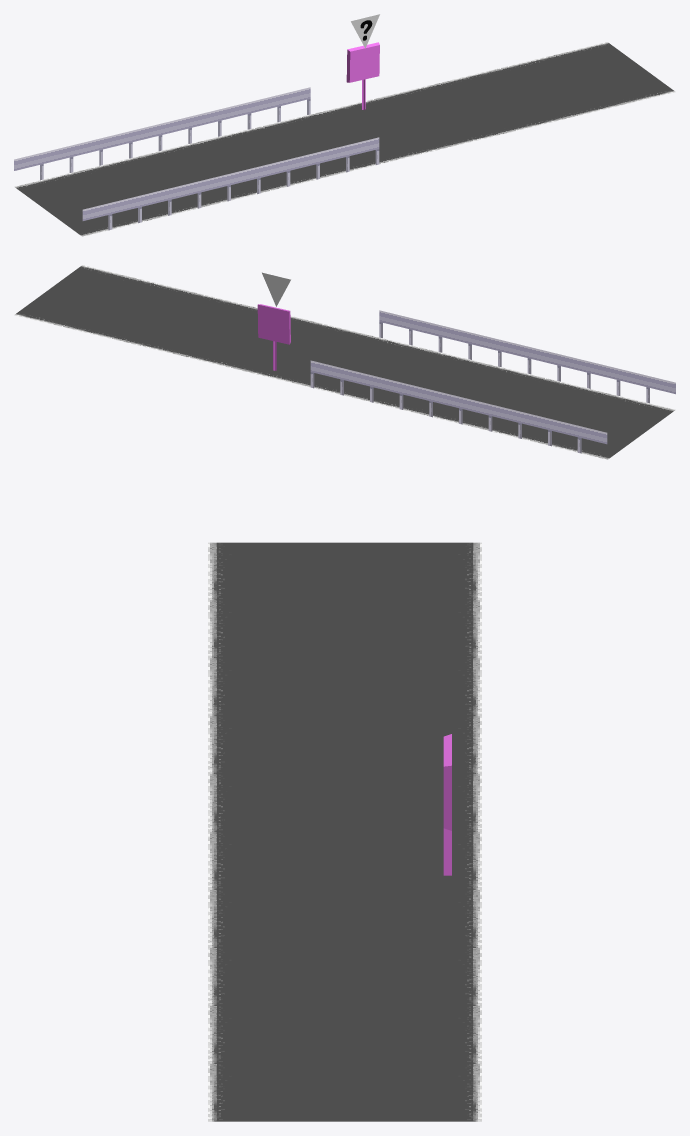
The model's file is Gift_Plane.glb.
3 views of the same model, one above another, from view 1: azimuth 30°, elevation 25°; view 2: azimuth 150°, elevation 25°; view 3: azimuth 270°, elevation 25° (orthographic). The views are drawn at different scales.
Visible parts, largest first — view 1: Road Object.001, Road Object, Back Rail Object, Front Rail Object, Sign, Animated Interaction Prompt; view 2: Road Object.001, Road Object, Front Rail Object, Back Rail Object, Sign, Animated Interaction Prompt; view 3: Road Object.001, Road Object.
Boxes of the visible parts, x1,y1,x2,y2 form: Road Object.001: [311, 42, 675, 164]; Road Object: [14, 114, 375, 236]; Back Rail Object: [82, 137, 379, 230]; Front Rail Object: [14, 87, 310, 180]; Sign: [346, 42, 379, 82]; Animated Interaction Prompt: [351, 14, 379, 48]; Road Object.001: [14, 265, 378, 387]; Road Object: [314, 337, 675, 459]; Front Rail Object: [310, 360, 607, 453]; Back Rail Object: [379, 310, 675, 403]; Sign: [257, 304, 290, 344]; Animated Interaction Prompt: [262, 272, 290, 306]; Road Object.001: [208, 832, 481, 1121]; Road Object: [208, 542, 481, 832].
Bounding box in the file's own units: 20 × 3 × 4.
Materials: 5 (2 with a texture image).
